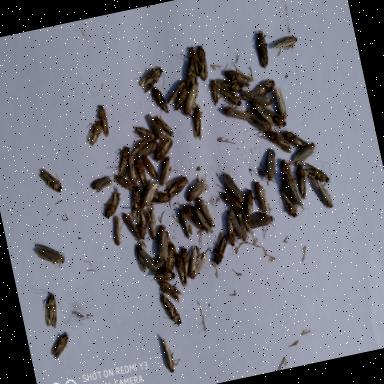pbw: (243, 206, 279, 243), (220, 52, 255, 90), (134, 61, 170, 96), (255, 146, 283, 188), (302, 156, 335, 191), (282, 168, 306, 214), (183, 244, 212, 282), (219, 182, 248, 220), (206, 229, 234, 268), (262, 124, 294, 158), (106, 144, 136, 180), (157, 290, 183, 331), (158, 333, 183, 375), (220, 168, 246, 208), (176, 80, 202, 120), (250, 27, 274, 70), (34, 240, 66, 272), (214, 78, 244, 112), (155, 272, 185, 306), (238, 84, 274, 112), (132, 178, 162, 211), (310, 176, 336, 214), (187, 100, 209, 144), (178, 43, 204, 80), (36, 163, 64, 197), (152, 152, 178, 188), (244, 104, 273, 136), (150, 132, 178, 165), (152, 222, 174, 264), (98, 186, 125, 220), (278, 122, 308, 152), (46, 330, 74, 362), (126, 184, 149, 222), (250, 177, 273, 215), (118, 208, 142, 244), (214, 71, 246, 98), (288, 140, 320, 167), (220, 101, 252, 128), (162, 78, 192, 106), (182, 176, 212, 204), (192, 42, 213, 82), (180, 200, 204, 235), (226, 206, 248, 244), (224, 216, 243, 258), (162, 174, 192, 200), (238, 187, 260, 222), (152, 110, 176, 142), (94, 100, 114, 138), (270, 33, 300, 58), (148, 84, 170, 118), (192, 202, 214, 236), (144, 110, 166, 143), (278, 182, 298, 218), (278, 154, 298, 190), (234, 209, 255, 242), (292, 163, 310, 201), (265, 105, 289, 133), (109, 213, 128, 248), (158, 250, 180, 280), (82, 121, 106, 148), (272, 84, 290, 120), (131, 120, 157, 144), (173, 252, 190, 288), (134, 206, 152, 240), (140, 152, 160, 182), (131, 243, 150, 274), (132, 154, 149, 188), (250, 76, 277, 97), (144, 208, 160, 243), (174, 205, 190, 240), (111, 170, 134, 194), (152, 264, 178, 285), (204, 76, 221, 108), (178, 244, 195, 276), (181, 58, 199, 88), (88, 172, 114, 192), (136, 139, 160, 160), (126, 136, 151, 156), (125, 154, 139, 186), (150, 187, 172, 207)
